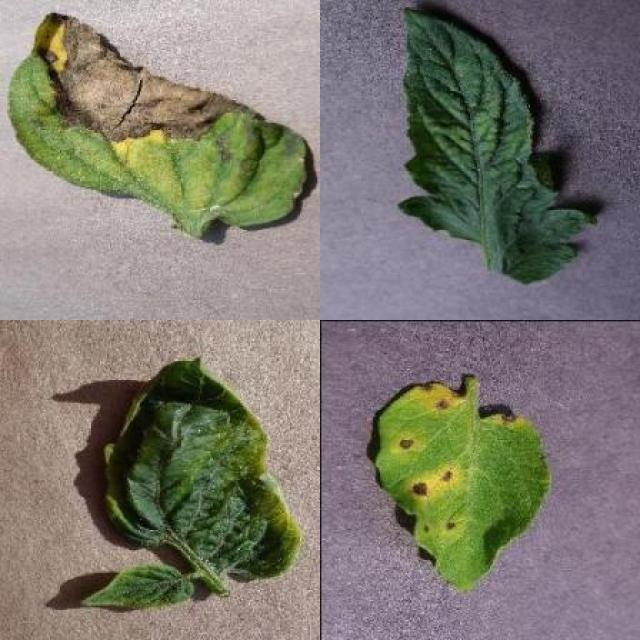Late Blight: (7, 12, 307, 227)
Mosaic Virus: (399, 7, 597, 286)
Septoria: (371, 382, 546, 588)
Yellow Leaf Curl Virus: (104, 355, 302, 585), (82, 567, 195, 612)
